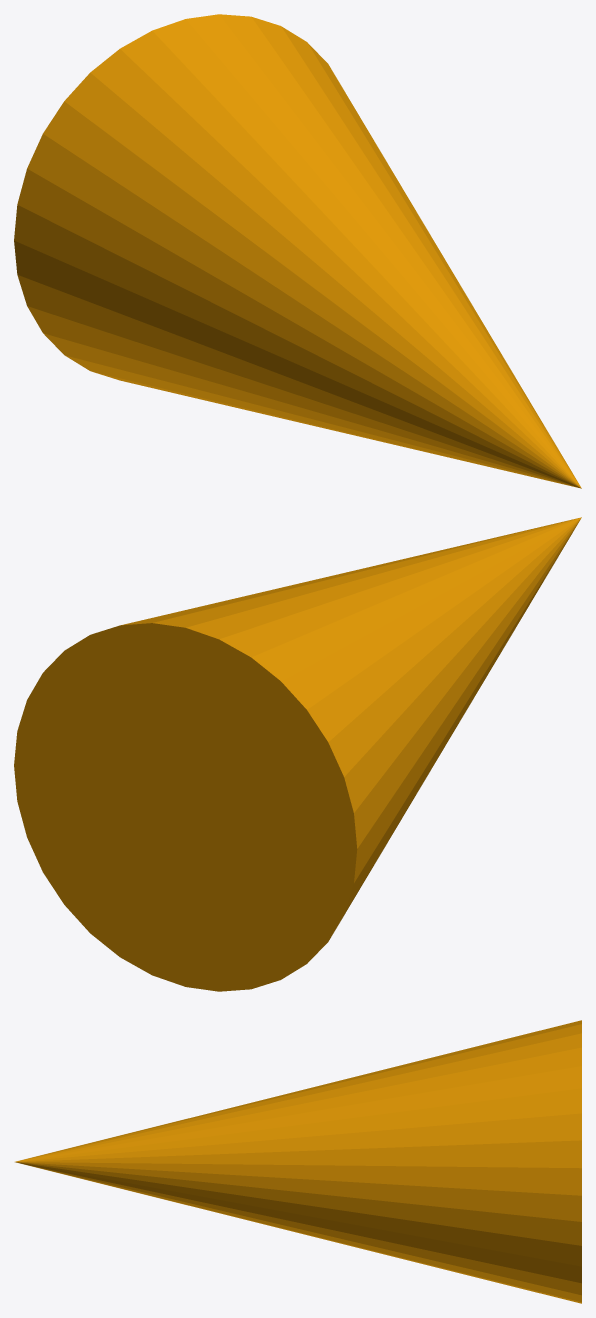
File: Sentinel_Vision.fbx
The picture shows the model from 3 angles, top to bottom: view 1: azimuth 30°, elevation 25°; view 2: azimuth 150°, elevation 25°; view 3: azimuth 270°, elevation 25°; orthographic projection. The views are drawn at different scales.
Visible parts, largest first — view 1: Cone; view 2: Cone; view 3: Cone.
Part boxes in pixels (bbox=[...]): Cone: bbox=[14, 14, 581, 488]; Cone: bbox=[14, 517, 581, 991]; Cone: bbox=[15, 1020, 581, 1303].
Size of the model in its own units: 2 by 2 by 4.
